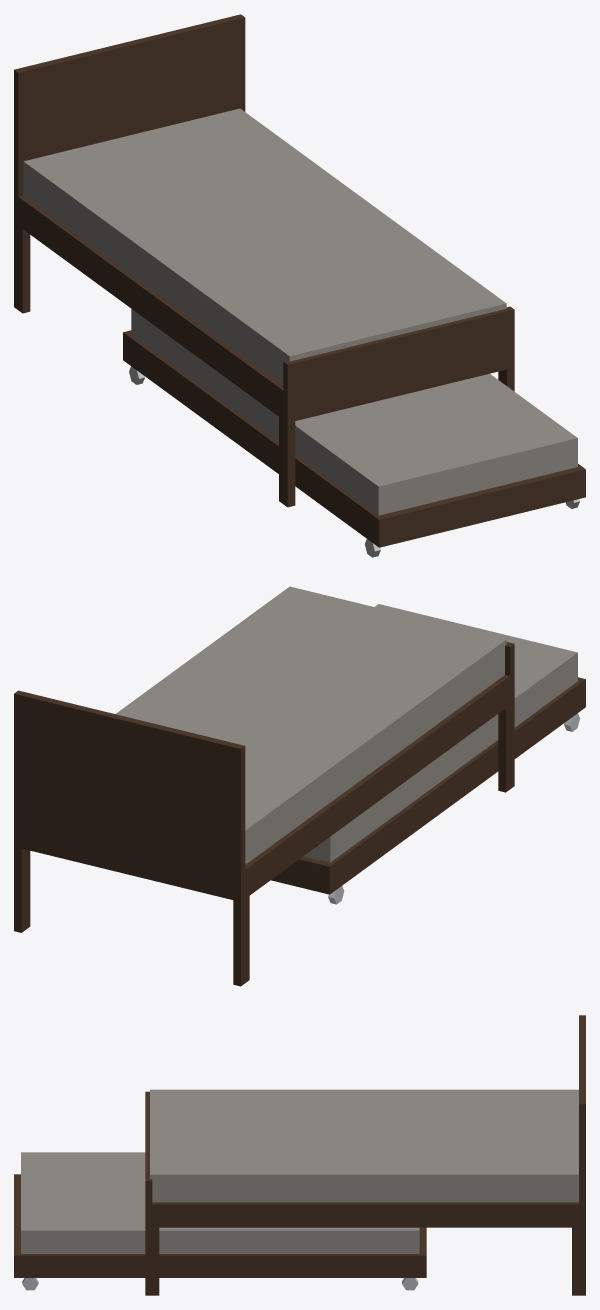
The model's file is FN_Bed_Trundle.glb.
The picture shows the model from 3 angles, top to bottom: view 1: azimuth 30°, elevation 25°; view 2: azimuth 150°, elevation 25°; view 3: azimuth 270°, elevation 25°; orthographic projection. The views are drawn at different scales.
Parts seen in each view (by area): view 1: FN_Bed_Trundle; view 2: FN_Bed_Trundle; view 3: FN_Bed_Trundle.
Part boxes in pixels (bbox=[...]): FN_Bed_Trundle: bbox=[14, 14, 585, 557]; FN_Bed_Trundle: bbox=[14, 586, 585, 986]; FN_Bed_Trundle: bbox=[14, 1015, 585, 1295].
Size of the model in its own units: 0.9 by 0.9 by 2.44.
Materials: 1 (1 with a texture image).
